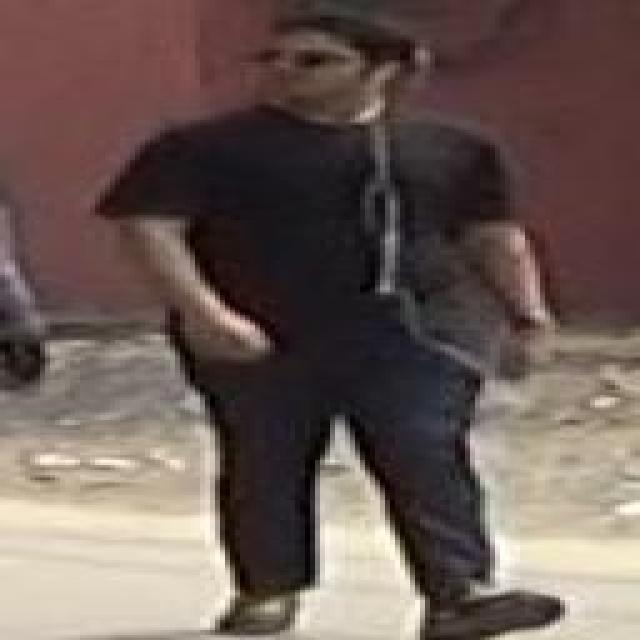adult: (104, 18, 580, 640)
